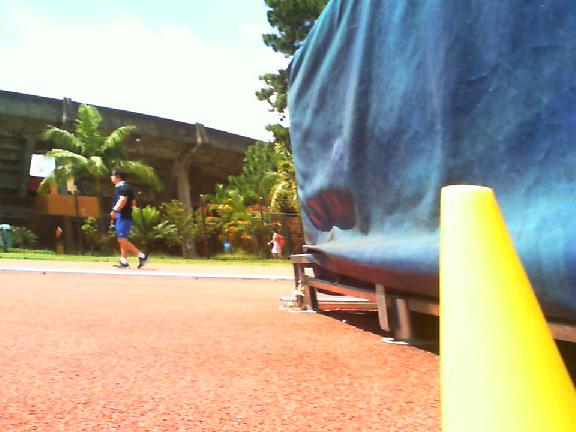0 cone: (440, 186, 576, 432)
